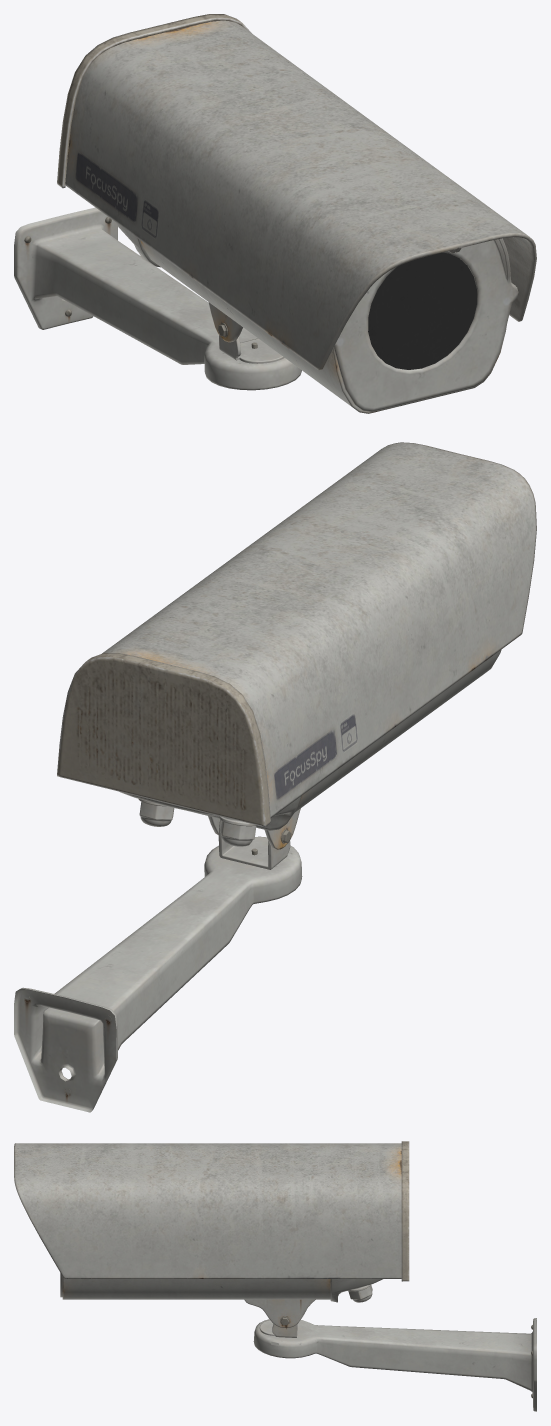
File: security_camera.glb
The picture shows the model from 3 angles, top to bottom: view 1: azimuth 30°, elevation 25°; view 2: azimuth 150°, elevation 25°; view 3: azimuth 270°, elevation 25°; orthographic projection. The views are drawn at different scales.
Parts seen in each view (by area): view 1: security_camera_01_0; view 2: security_camera_01_0; view 3: security_camera_01_0.
Boxes of the visible parts, bbox=[...] form: security_camera_01_0: bbox=[14, 14, 536, 413]; security_camera_01_0: bbox=[14, 442, 536, 1112]; security_camera_01_0: bbox=[14, 1141, 536, 1411].
Bounding box in the file's own units: 0.1696 × 0.286 × 0.5537.
Materials: 2 (2 with a texture image).
